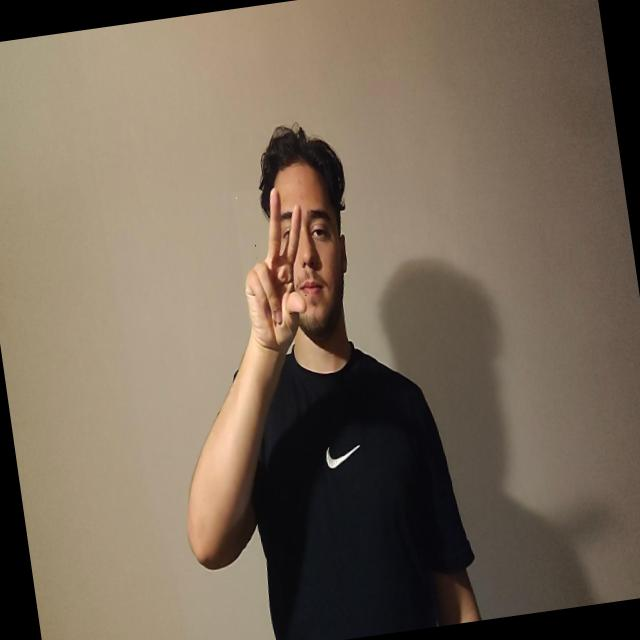no: (231, 183, 320, 356)
